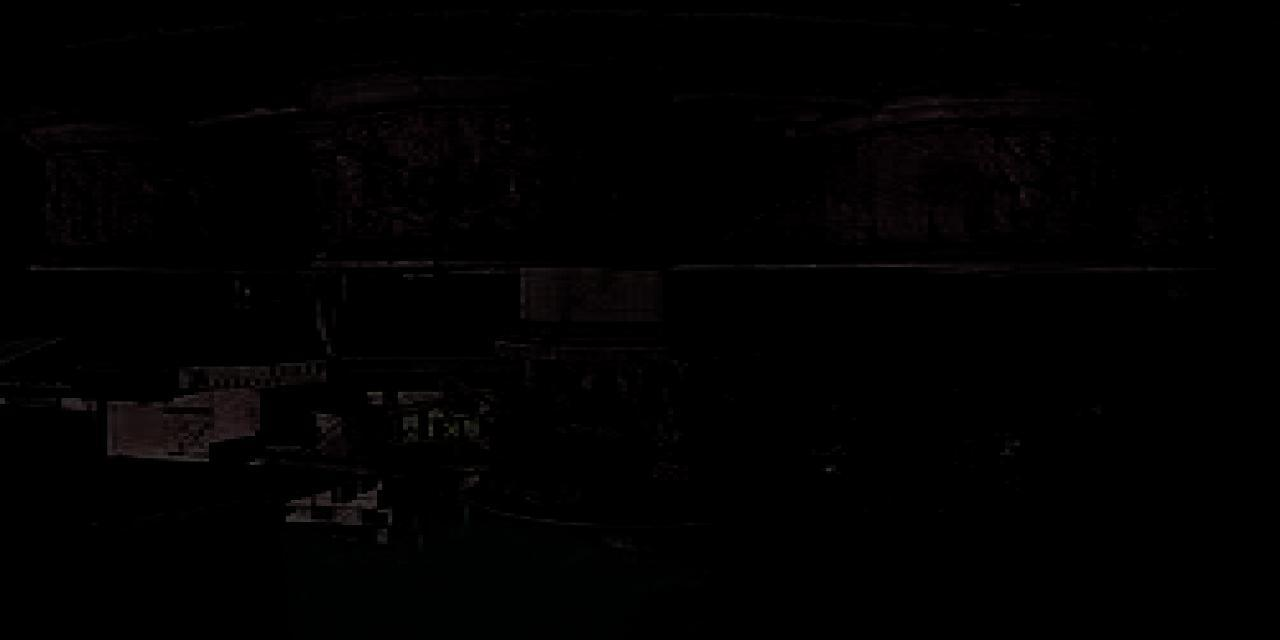Liontaria: (40, 87, 1233, 538)
